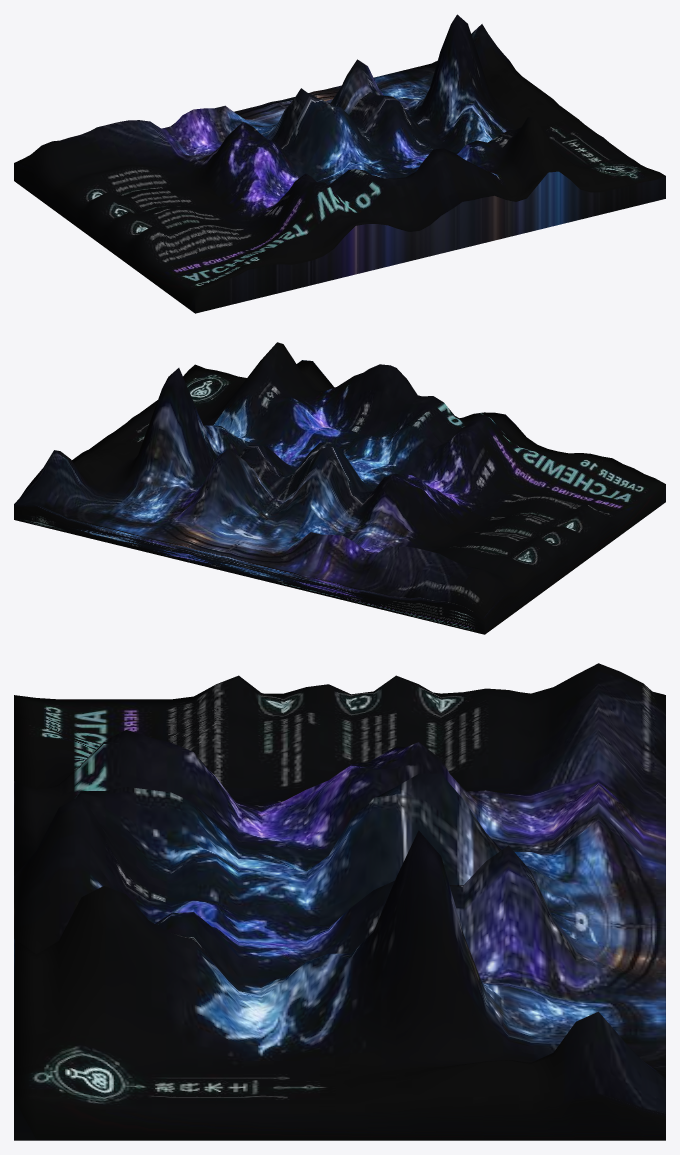
The model's file is CAREER_16_VFX_01_Herb_Sorting.glb.
3 views of the same model, one above another, from view 1: azimuth 30°, elevation 25°; view 2: azimuth 150°, elevation 25°; view 3: azimuth 270°, elevation 25° (orthographic). The views are drawn at different scales.
Visible parts, largest first — view 1: CAREER_16_VFX_01_Herb_Sorting; view 2: CAREER_16_VFX_01_Herb_Sorting; view 3: CAREER_16_VFX_01_Herb_Sorting.
Part boxes in pixels (x1,y1,x2,y2): CAREER_16_VFX_01_Herb_Sorting: [14, 14, 665, 313]; CAREER_16_VFX_01_Herb_Sorting: [14, 342, 665, 634]; CAREER_16_VFX_01_Herb_Sorting: [14, 663, 665, 1140].
Bounding box in the file's own units: 2 × 0.51 × 1.33.
1 material, 1 textured.
